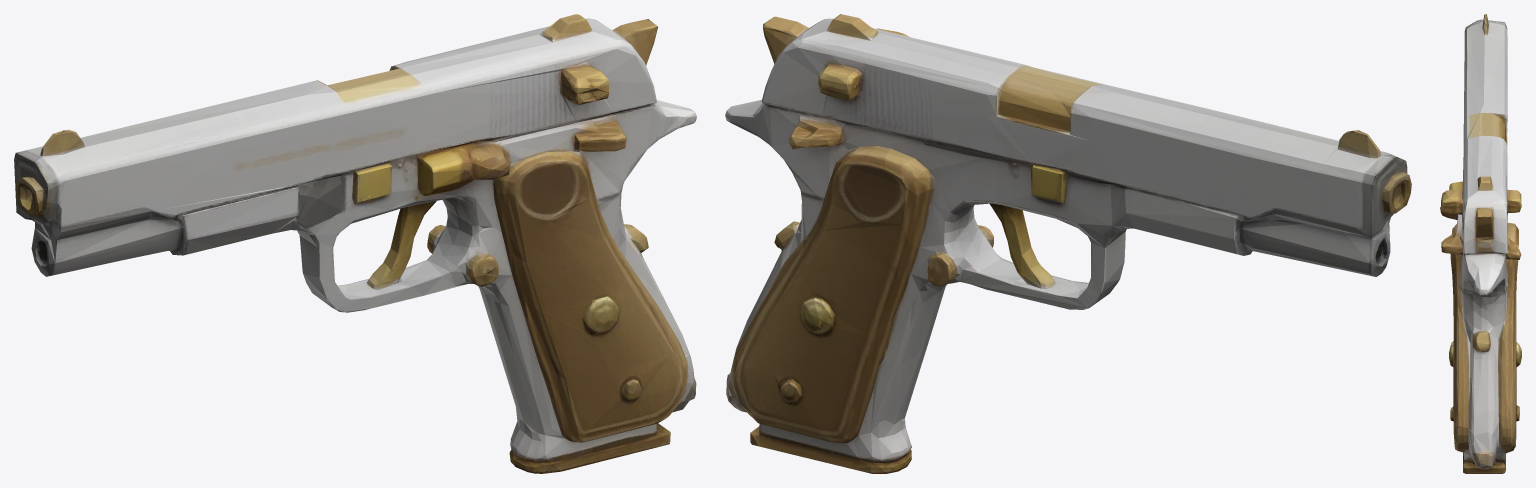
Rendered from white_walther.glb.
3 renders of one model, left to right at view 1: azimuth 30°, elevation 25°; view 2: azimuth 150°, elevation 25°; view 3: azimuth 270°, elevation 25°, orthographic. The views are drawn at different scales.
Parts seen in each view (by area): view 1: geometry_0; view 2: geometry_0; view 3: geometry_0.
Part boxes in pixels (x1=…): geometry_0: x1=14, y1=14, x2=696, y2=473; geometry_0: x1=725, y1=14, x2=1411, y2=473; geometry_0: x1=1440, y1=14, x2=1521, y2=473.
Bounding box in the file's own units: 1 × 0.6368 × 0.1694.
1 material, 1 textured.
